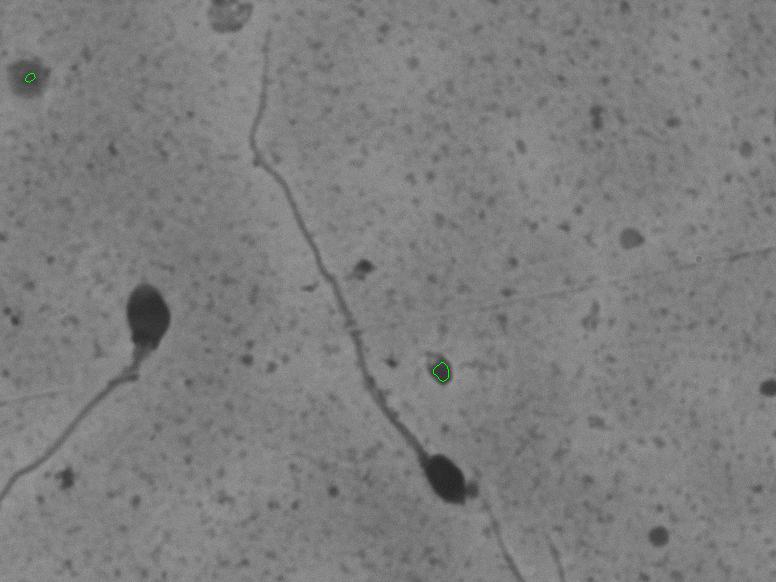Abnormal: (237, 23, 476, 513), (21, 244, 197, 498)
